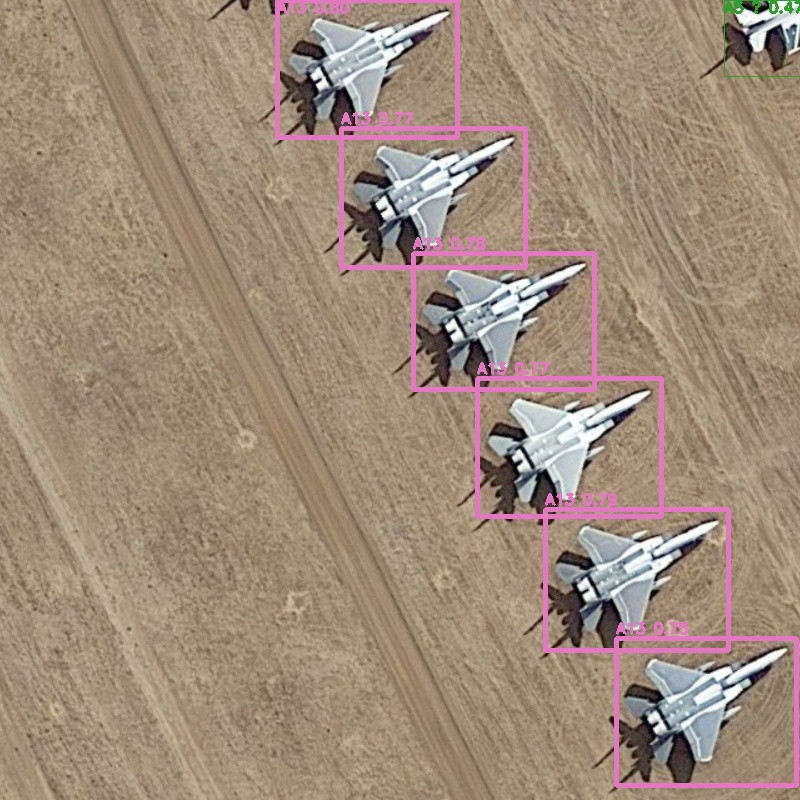A13: (616, 638, 796, 785), (545, 509, 728, 650), (341, 128, 525, 267), (477, 378, 661, 516), (277, 0, 457, 137), (413, 253, 594, 389)
A5: (724, 0, 800, 76)
